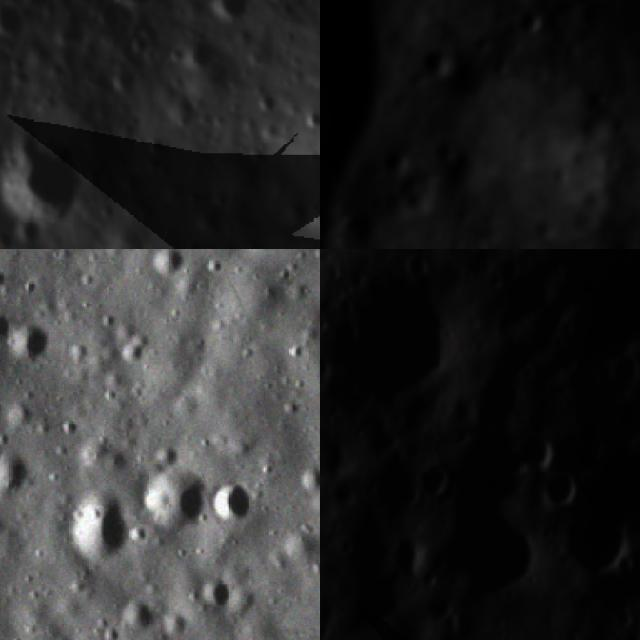crater: (481, 249, 640, 552), (320, 257, 463, 408), (48, 483, 148, 586), (125, 455, 220, 551), (15, 128, 84, 208), (198, 471, 268, 544), (0, 312, 68, 387), (0, 435, 47, 509), (414, 35, 469, 90), (135, 249, 198, 293), (514, 415, 556, 476), (188, 573, 241, 621), (200, 0, 267, 37), (545, 459, 588, 514), (111, 327, 158, 374), (116, 595, 163, 640), (506, 0, 555, 42), (389, 532, 427, 579), (286, 455, 320, 507), (604, 347, 640, 396), (417, 458, 460, 499), (382, 136, 418, 179), (541, 0, 580, 35), (155, 607, 195, 640), (0, 0, 30, 43), (0, 305, 20, 356), (584, 79, 614, 111), (433, 133, 461, 166), (551, 162, 574, 191), (572, 142, 592, 166), (608, 150, 622, 176)
